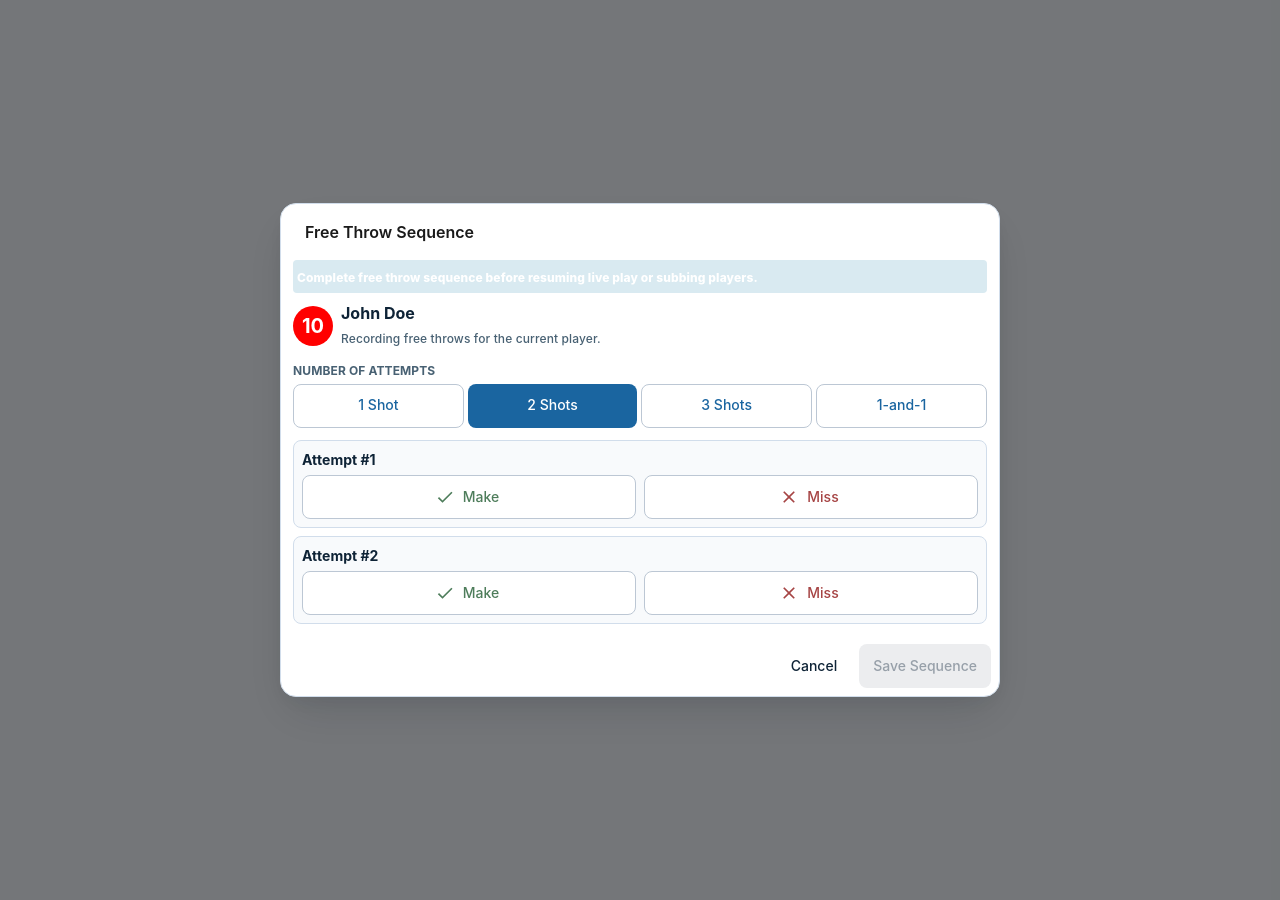
Test case: FreeThrowWorkflowDialog › disables Save button until all attempts are recorded
The image size is (1280, 900).
Check: the button "Save Sequence" is disabled, box [859,644,991,688]
Click the 1st button "Make" at {"x": 469, "y": 497}, box [302,475,636,519]
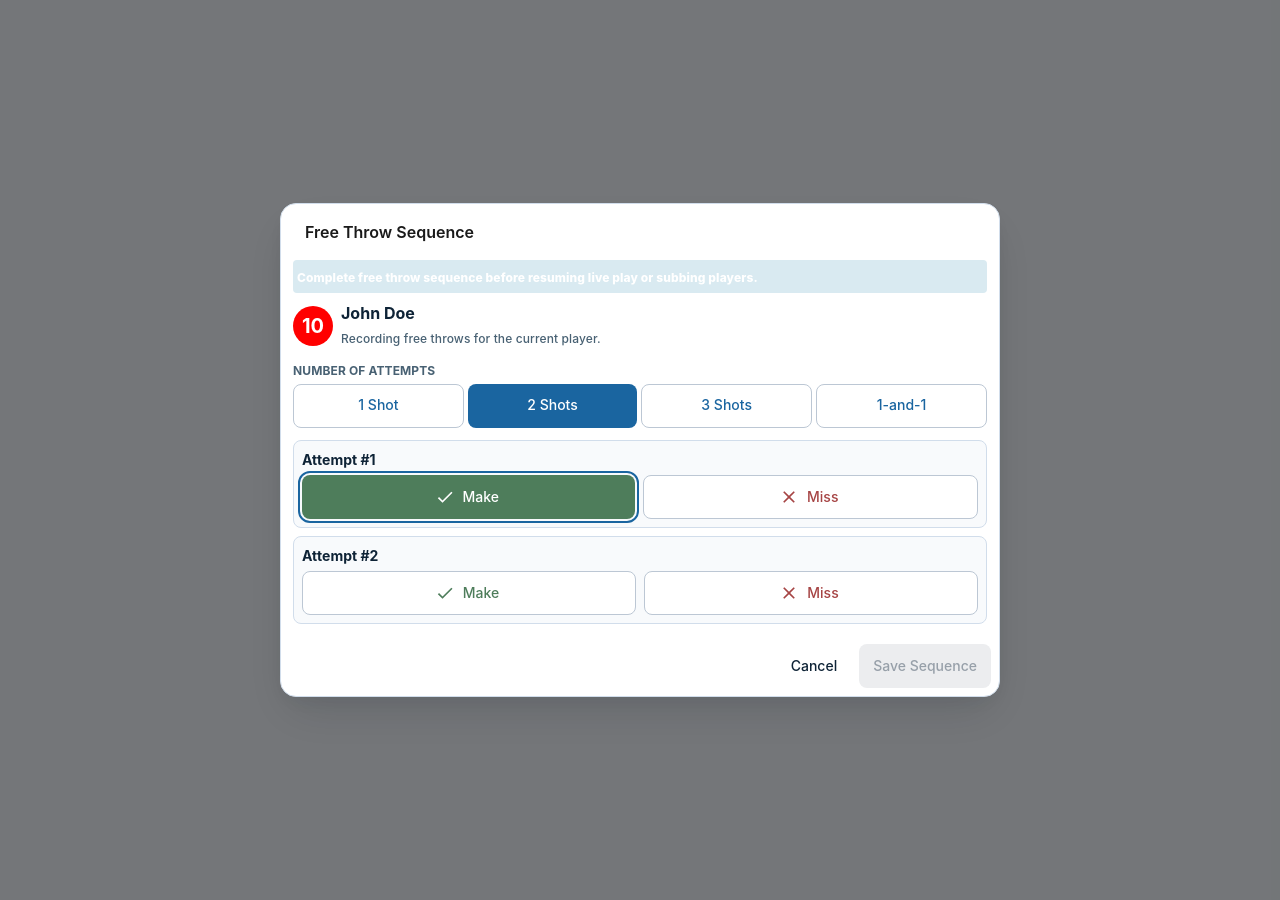
Check: the button "Save Sequence" is disabled, box [859,644,991,688]
Click the 2nd button "Miss" at {"x": 811, "y": 593}, box [644,571,978,615]
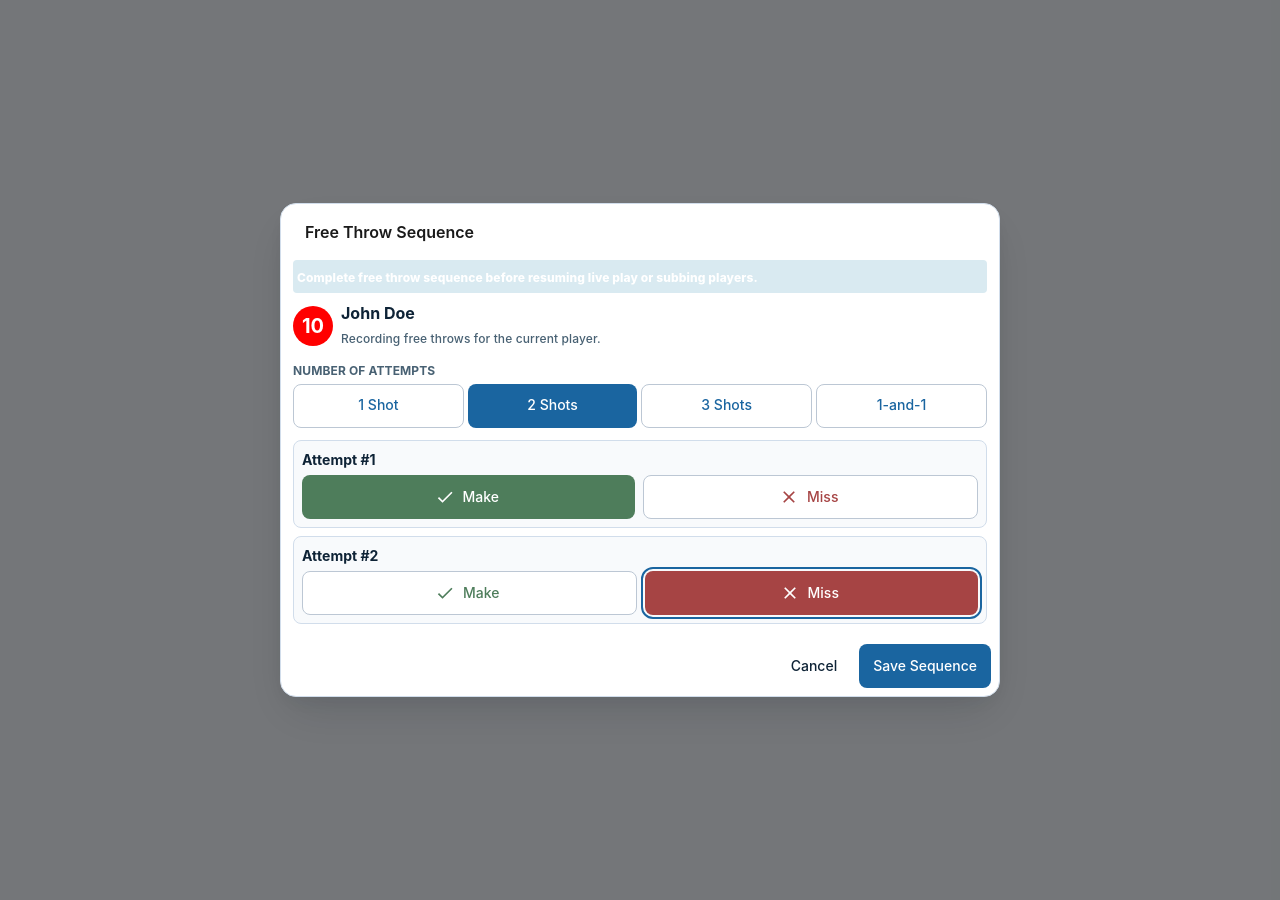
Check: the button "Save Sequence" is enabled, box [859,644,991,688]
